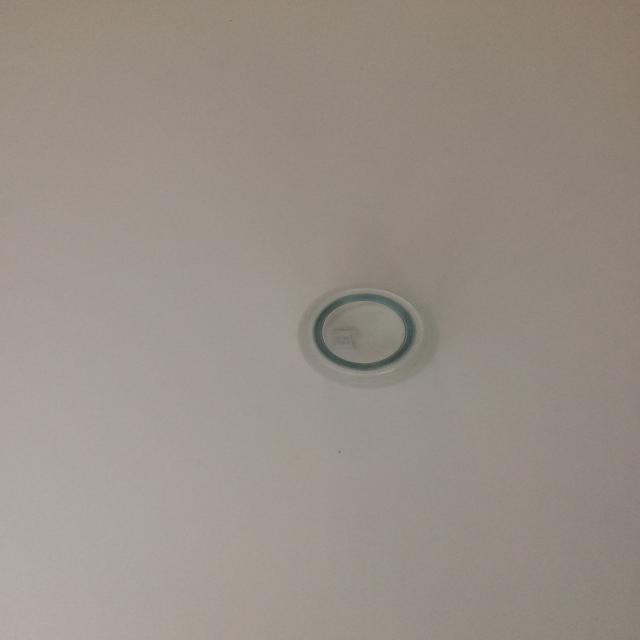glass: (310, 287, 425, 376)
